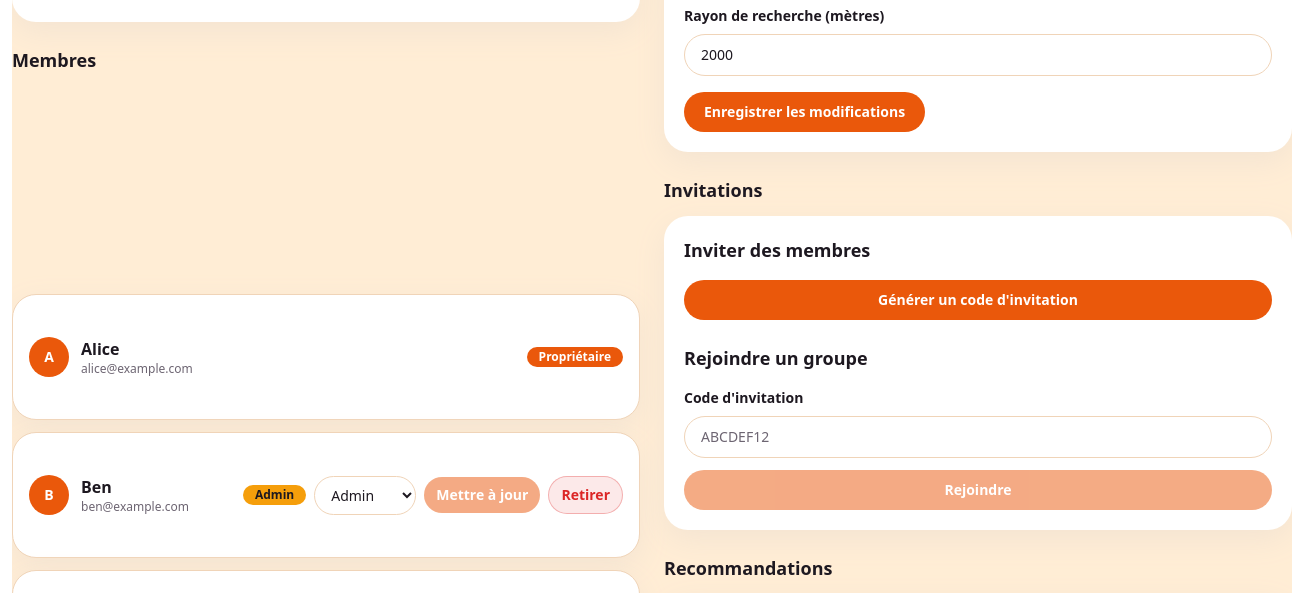
Test: GroupDetailPage › shows create invite error for permission (403)
(page scrolled)
Expected: the heading "Invitations" is shown, [664,178,762,202]
Click the button "Générer un code d'invitation" at [978, 300], box [684,280,1272,320]
(page scrolled)
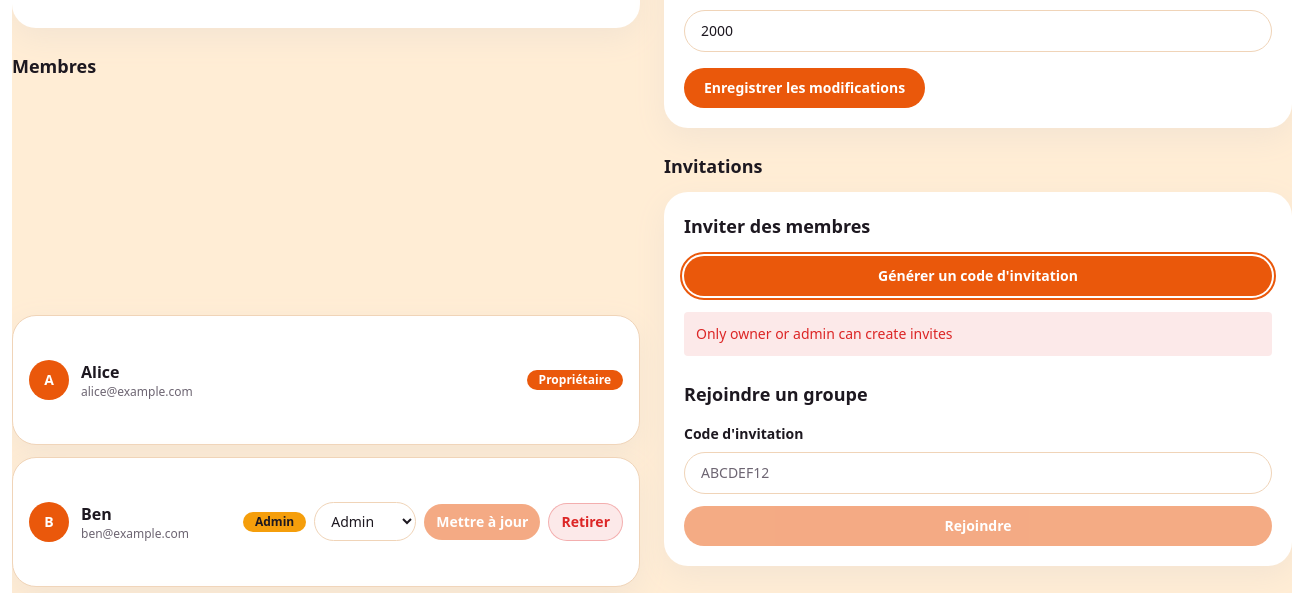
Result: the message shows "Only owner or admin" at [696,324,953,343]
